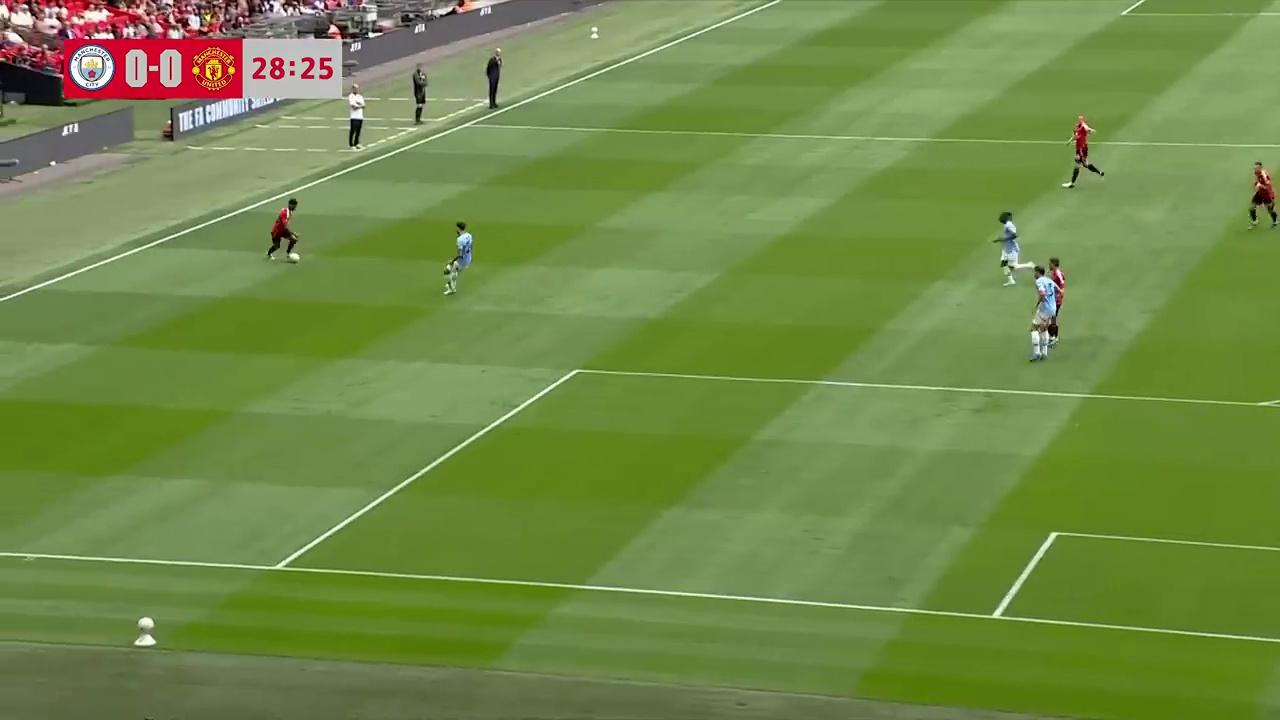ball: (289, 248, 300, 264)
player: (1063, 113, 1105, 187), (1029, 267, 1055, 362), (442, 221, 473, 295), (265, 198, 300, 263), (1247, 160, 1279, 230), (992, 210, 1021, 286), (1046, 253, 1067, 350)
